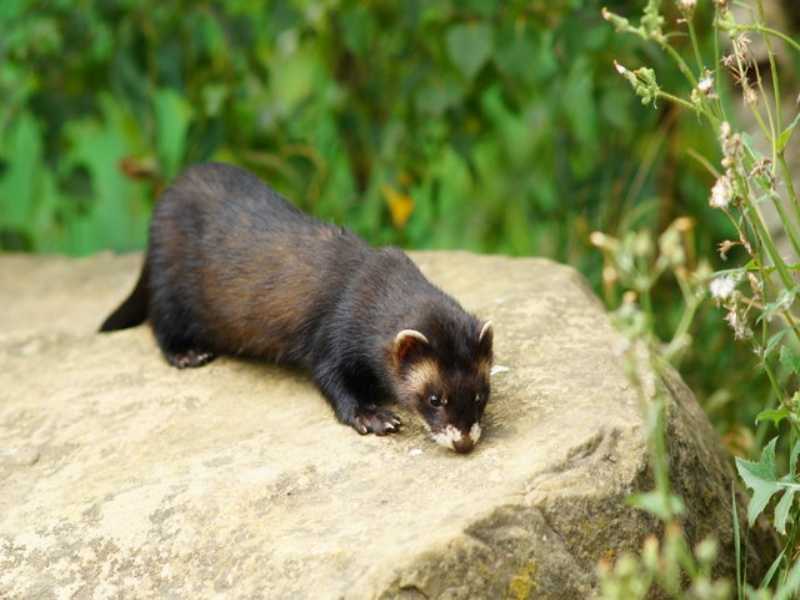minkish: (99, 154, 504, 460)
